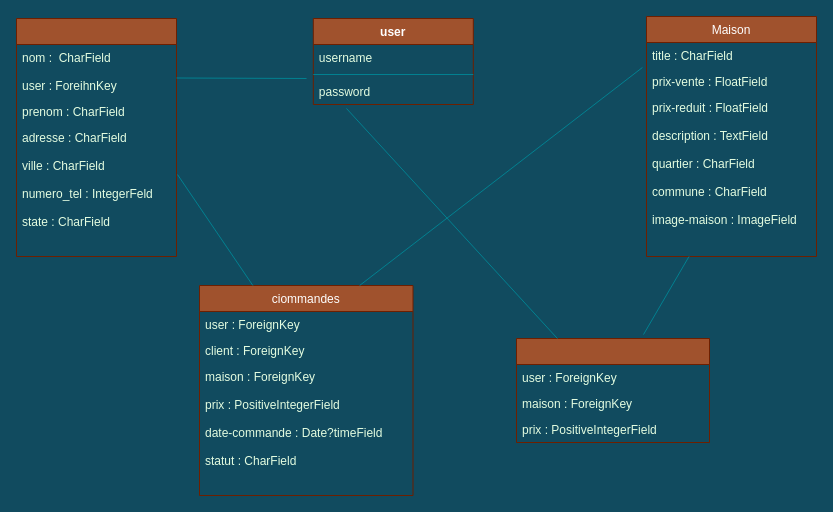
Image size: 833x512. Some labels were removed from this diagram. Here are the shapes that lost their labels. From the top down, the box of each, then its label:
(16, 18, 176, 256): Client
(516, 338, 710, 442): ventes
